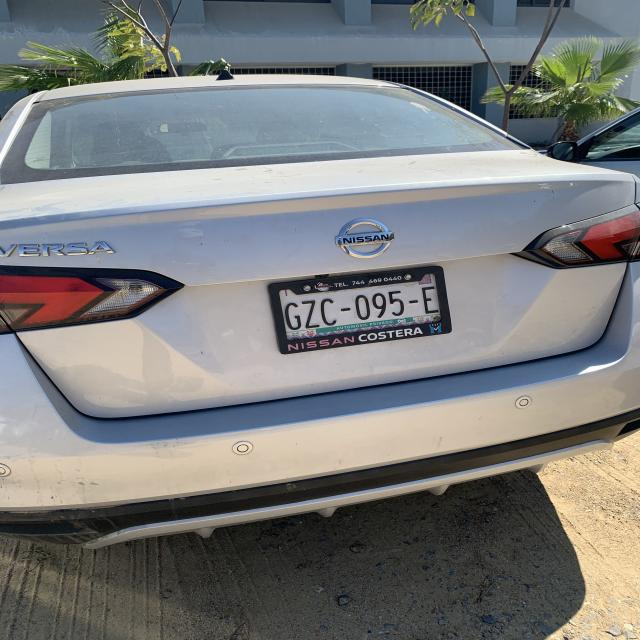placa: (268, 283, 456, 331)
